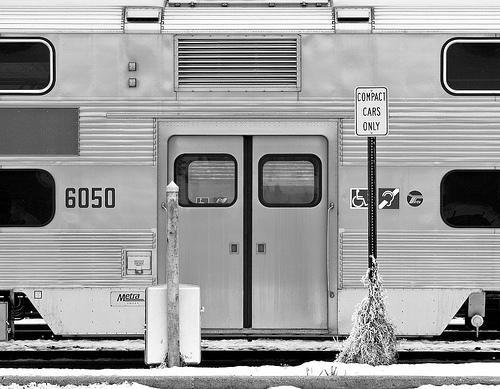Train: (1, 5, 500, 363)
